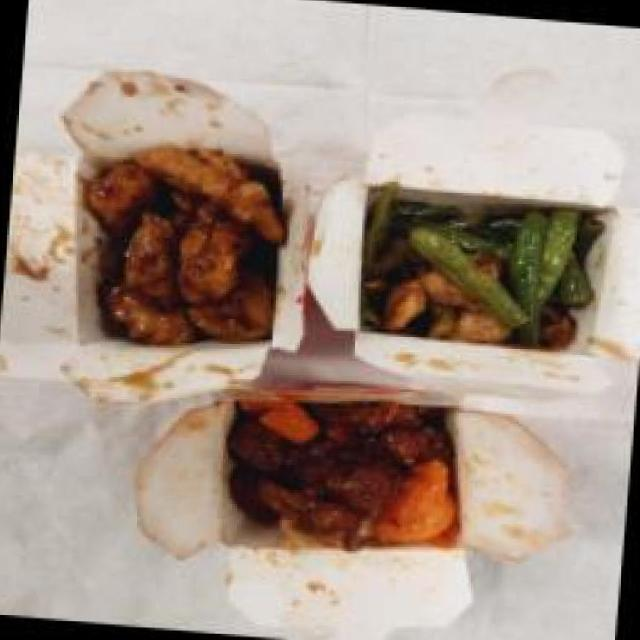Beijing Beef: (214, 378, 472, 565)
String Bean Chicken Breast: (350, 181, 608, 360)
The Original Orange Chicken: (67, 130, 301, 357)
